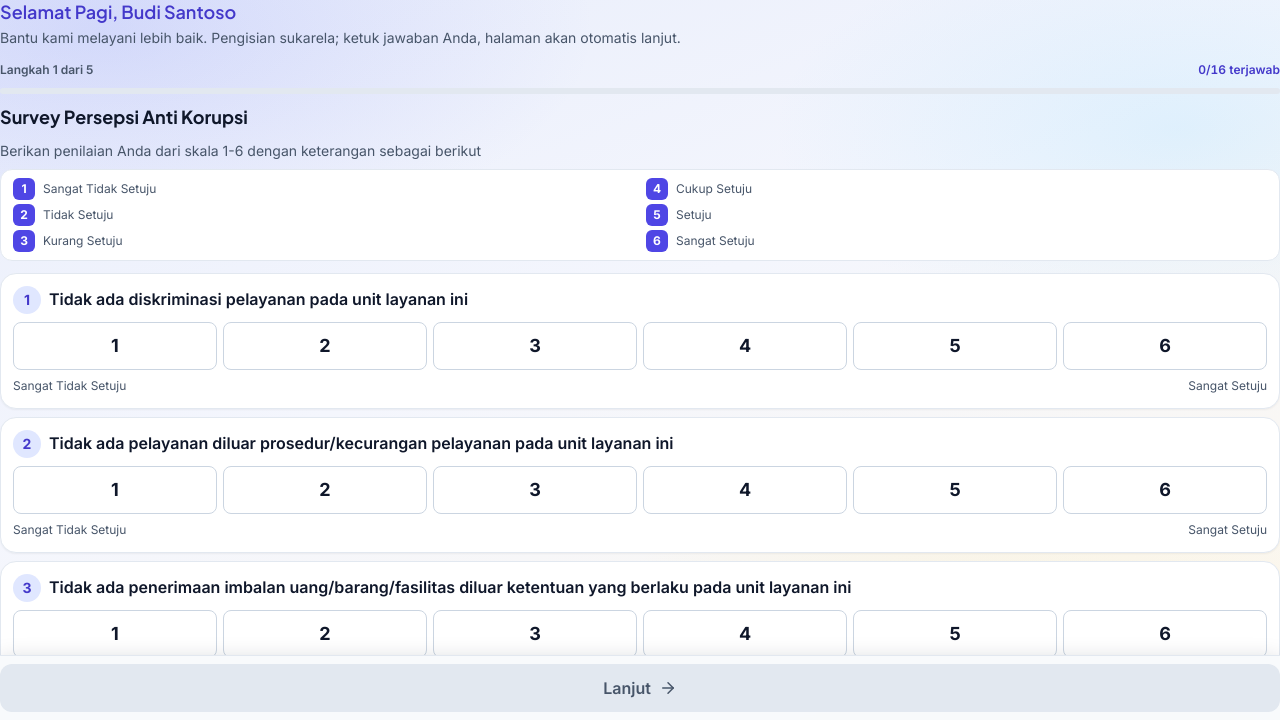
Test case: SurveiWizard: Back › (d) Kembali ke langkah sebelumnya tanpa auto-lanjut dan jawaban tetap
Click the 1st radio button labelled "6": (1165, 346) [1063,322,1267,370]
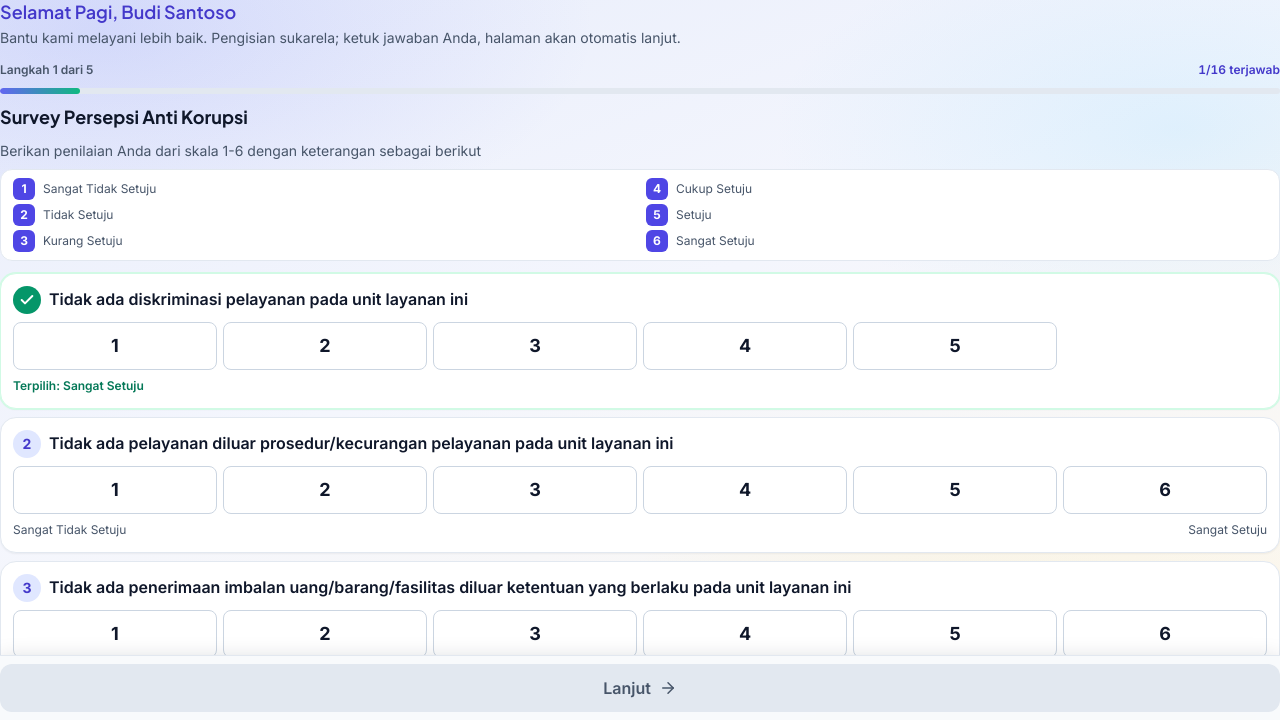
Click the 2nd radio button labelled "5": (955, 490) [853,466,1057,514]
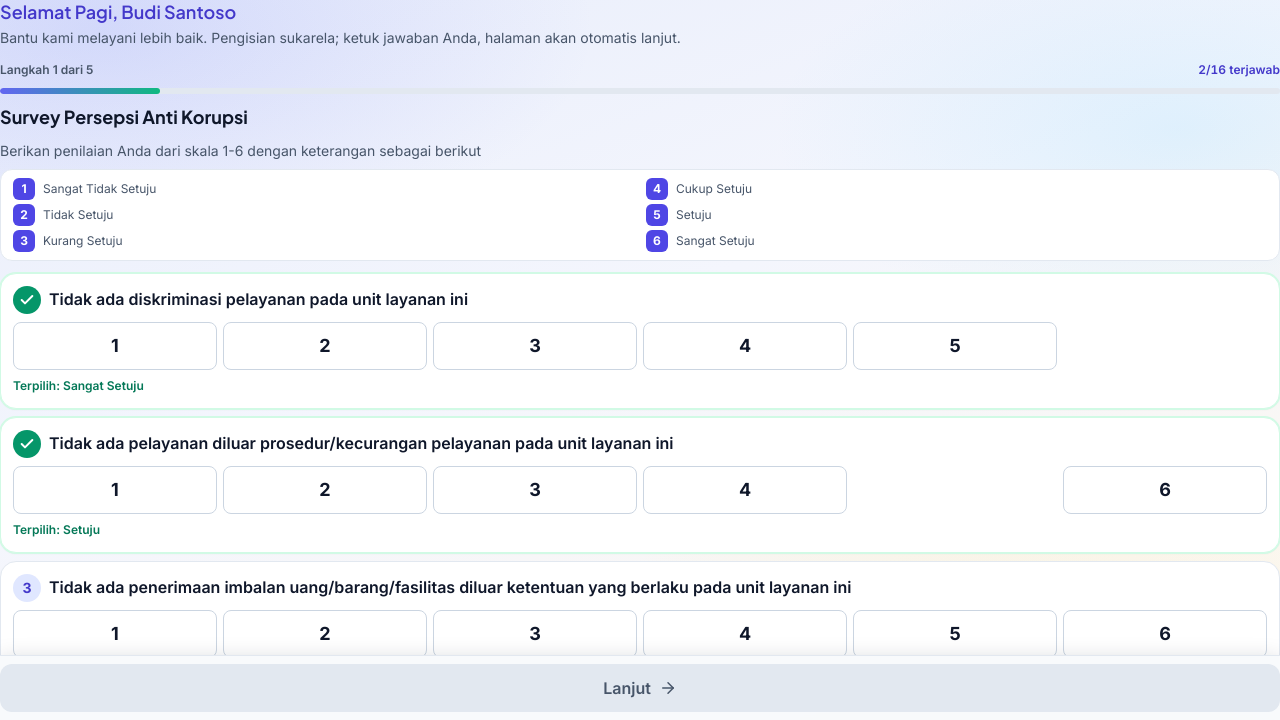
Click the 3rd radio button labelled "4": (745, 634) [643,610,847,658]
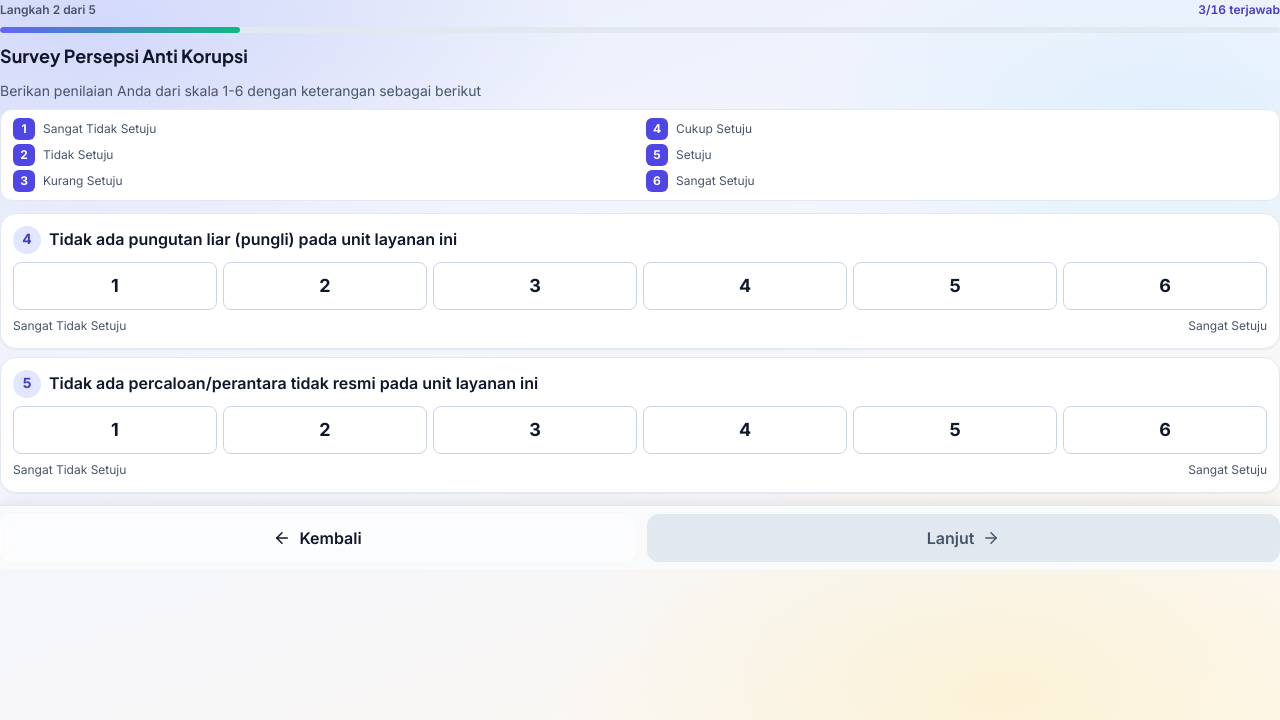
Click the button "Kembali": (318, 538) [0,514,635,562]
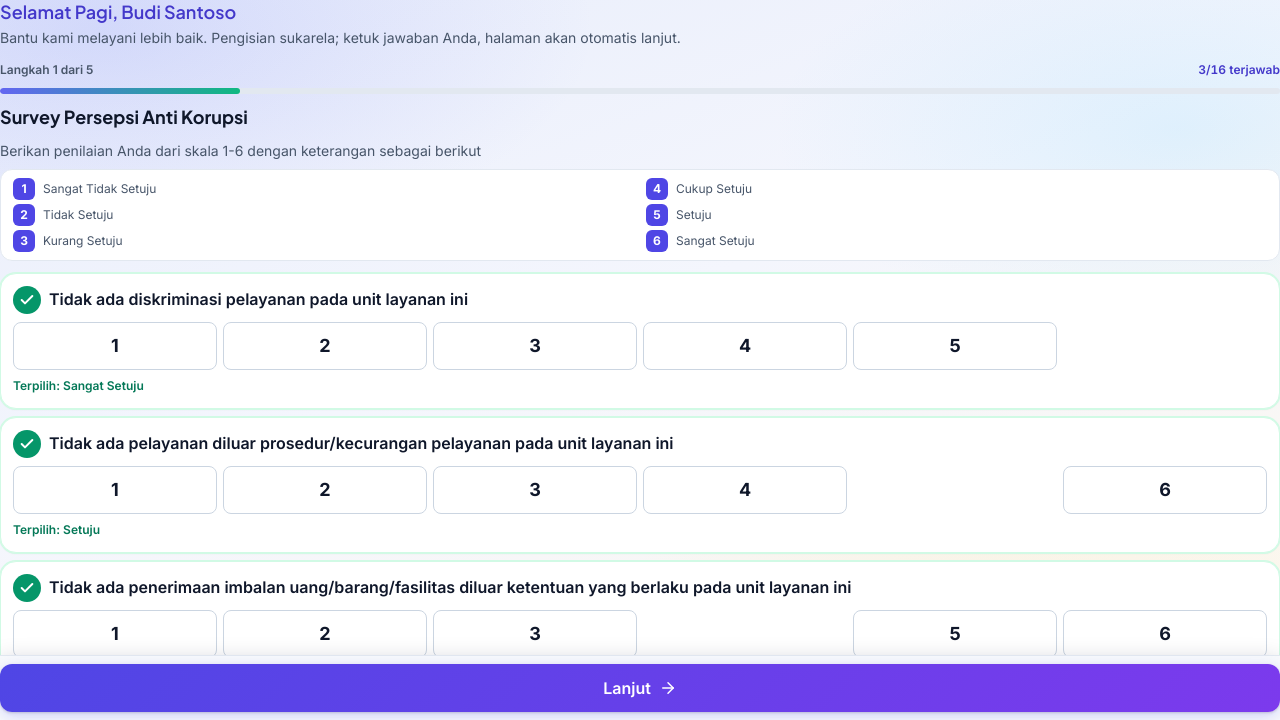
Check: the button "Lanjut" is enabled, box [0,664,1279,712]
